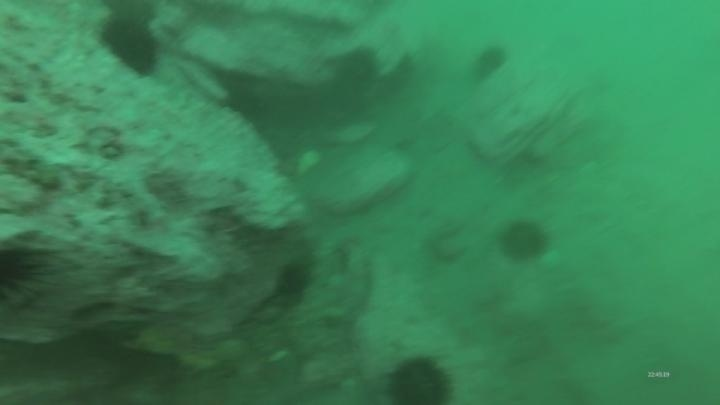echinus: (95, 17, 162, 82), (383, 353, 457, 405), (1, 241, 51, 310), (496, 217, 552, 266), (332, 46, 381, 92), (221, 82, 271, 126), (469, 42, 510, 85), (274, 259, 313, 302), (102, 1, 159, 26)
